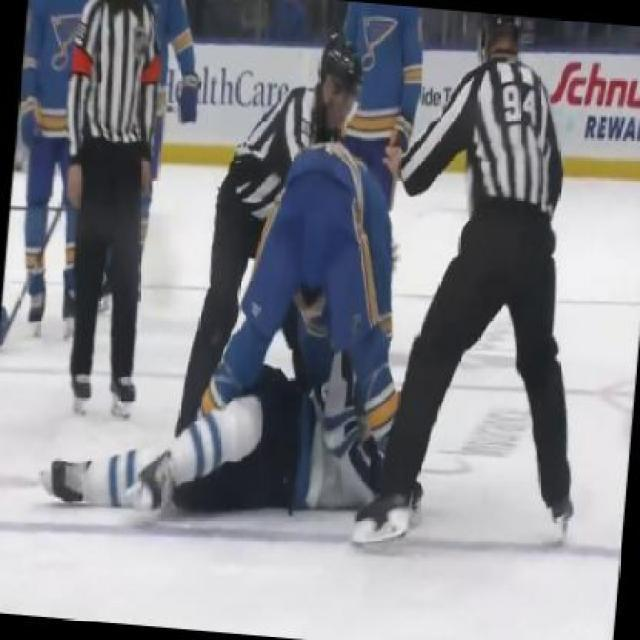fight: (195, 134, 422, 528)
non-fight: (372, 8, 617, 556), (36, 0, 172, 431)
